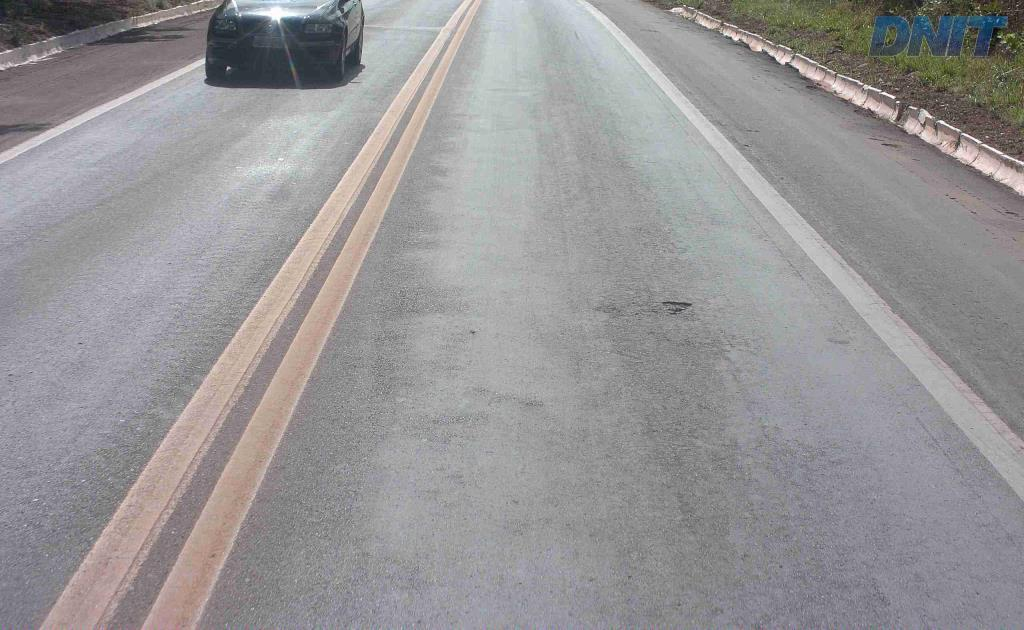pothole: (661, 293, 698, 322)
